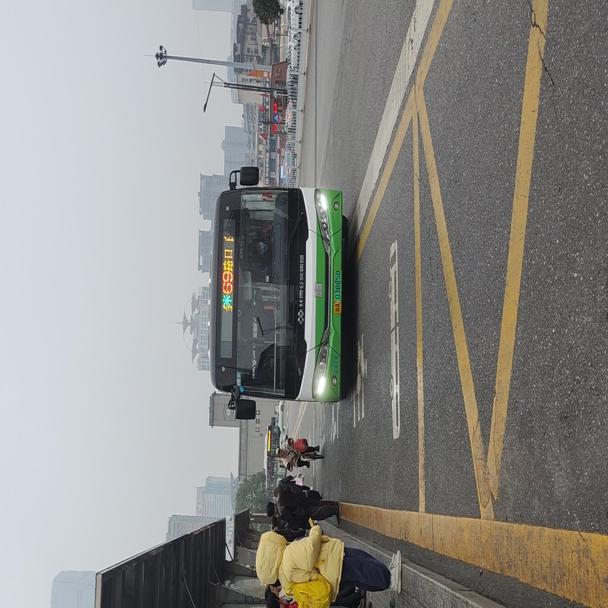bus: (208, 164, 342, 414)
screen: (220, 267, 233, 293)
